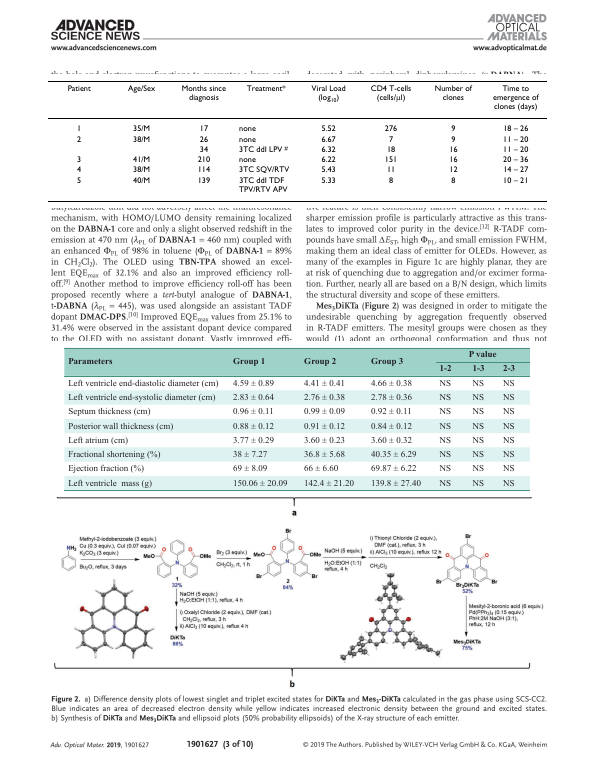borderless: (63, 346, 530, 490), (47, 79, 547, 201)
cell: (66, 379, 219, 389), (66, 393, 216, 403), (491, 83, 539, 112), (66, 422, 174, 432), (238, 175, 288, 194), (66, 450, 161, 460), (369, 82, 412, 104), (66, 407, 151, 418), (180, 83, 226, 102), (66, 479, 152, 489), (66, 464, 144, 475), (310, 83, 346, 104), (433, 83, 472, 102), (66, 436, 128, 446), (232, 479, 288, 489), (238, 165, 290, 175), (370, 464, 417, 475), (303, 479, 354, 489), (370, 479, 421, 489), (238, 144, 288, 154), (370, 450, 417, 460), (232, 407, 274, 418), (303, 407, 345, 418), (370, 407, 412, 418), (67, 358, 113, 368), (232, 379, 274, 389), (303, 379, 345, 389), (370, 379, 412, 389), (232, 393, 274, 403), (303, 393, 345, 403), (370, 393, 412, 403), (232, 422, 274, 432), (303, 422, 345, 432), (370, 422, 412, 432), (232, 436, 274, 446), (303, 436, 345, 446), (370, 436, 412, 446), (303, 450, 345, 460), (245, 83, 286, 93), (232, 464, 268, 475), (303, 464, 339, 475), (232, 450, 268, 460), (369, 358, 404, 368), (232, 358, 266, 368), (303, 358, 337, 368), (126, 83, 156, 93), (467, 351, 497, 361), (502, 124, 529, 134), (502, 134, 529, 144), (502, 155, 529, 165), (502, 165, 529, 175), (502, 175, 529, 185), (66, 83, 91, 93), (502, 145, 529, 154), (132, 124, 151, 134), (132, 134, 151, 144), (132, 155, 151, 165), (132, 165, 151, 175), (132, 175, 151, 185), (238, 124, 256, 134), (238, 134, 256, 144), (238, 155, 256, 165), (320, 124, 336, 134), (320, 134, 336, 144), (320, 155, 336, 165), (320, 165, 336, 175), (320, 175, 336, 185), (438, 407, 452, 418), (471, 407, 485, 418), (438, 464, 452, 475), (471, 464, 485, 475), (383, 124, 398, 134), (196, 155, 211, 165), (383, 155, 398, 165), (196, 165, 211, 175), (196, 175, 211, 185), (320, 145, 336, 154), (502, 407, 515, 418), (502, 464, 515, 475), (438, 365, 452, 375), (471, 365, 485, 375), (501, 365, 515, 375), (438, 379, 452, 389), (471, 379, 485, 389), (438, 393, 452, 403), (471, 393, 485, 403), (438, 422, 452, 432), (471, 422, 485, 432), (438, 436, 452, 446), (471, 436, 485, 446), (438, 450, 452, 460), (471, 450, 485, 460), (438, 479, 452, 489), (471, 479, 485, 489), (502, 379, 515, 389), (502, 393, 515, 403), (502, 422, 515, 432), (502, 436, 515, 446), (502, 450, 515, 460), (502, 479, 515, 489), (198, 124, 209, 134), (198, 134, 209, 144), (385, 165, 396, 175), (448, 155, 458, 165), (448, 165, 458, 175), (198, 145, 209, 154), (385, 145, 396, 154), (448, 145, 458, 154), (387, 134, 394, 144), (387, 175, 394, 185), (76, 124, 82, 134), (450, 124, 456, 134), (76, 134, 82, 144), (450, 134, 456, 144), (76, 155, 82, 165), (76, 165, 82, 175), (76, 175, 82, 185), (450, 175, 456, 185)
